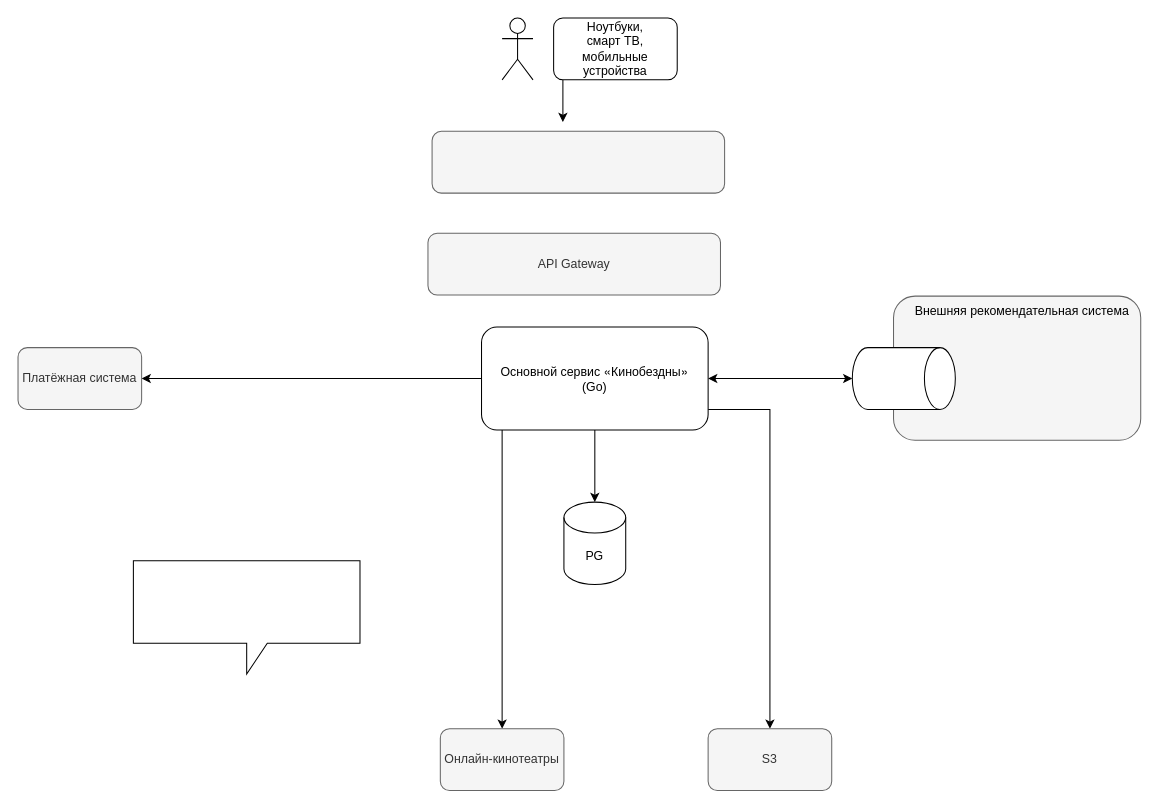
This 1159x809 diagram has some shape labels left out. Here are the shapes that lost their labels. From the top down, the box of each, then its label:
(501, 17, 533, 80): Пользователь
(431, 130, 725, 193): Frontend (React/ Web / TV)
(851, 347, 955, 409): RabbitMQ
(132, 560, 360, 674): метаданные, контент, пользователи и т. д.
